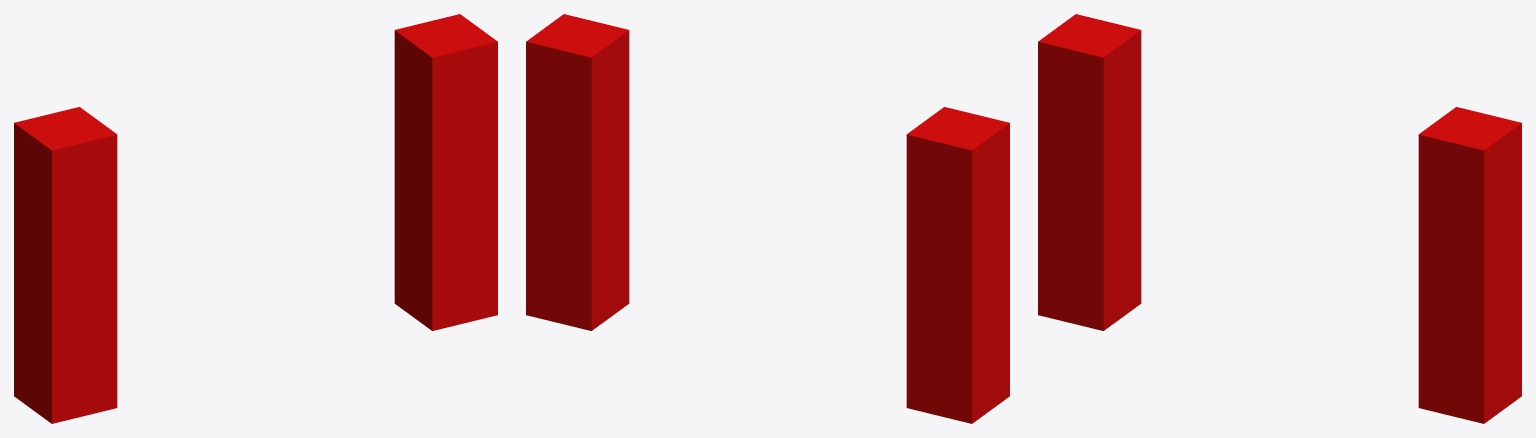
The model's file is BoundaryWallColliders.fbx.
3 views of the same model, side by side, from view 1: azimuth 30°, elevation 25°; view 2: azimuth 150°, elevation 25°; view 3: azimuth 330°, elevation 25° (orthographic).
Parts seen in each view (by area): view 1: GatePostsCollsion; view 2: GatePostsCollsion; view 3: GatePostsCollsion.
Boxes of the visible parts, x1,y1,x2,y2 form: GatePostsCollsion: (14, 14, 497, 423); GatePostsCollsion: (526, 14, 1009, 423); GatePostsCollsion: (1038, 14, 1521, 423).
Size of what is drawn, in the model's own units: 340 by 199 by 49.99.
